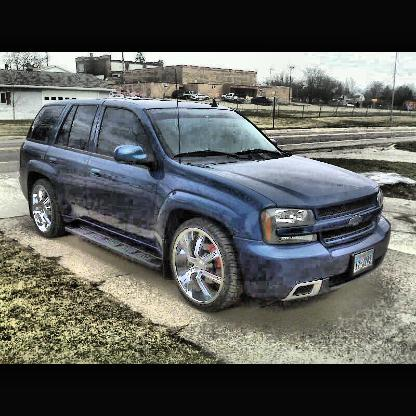Chevrolet TrailBlazer SS 2009: (17, 98, 395, 313)
